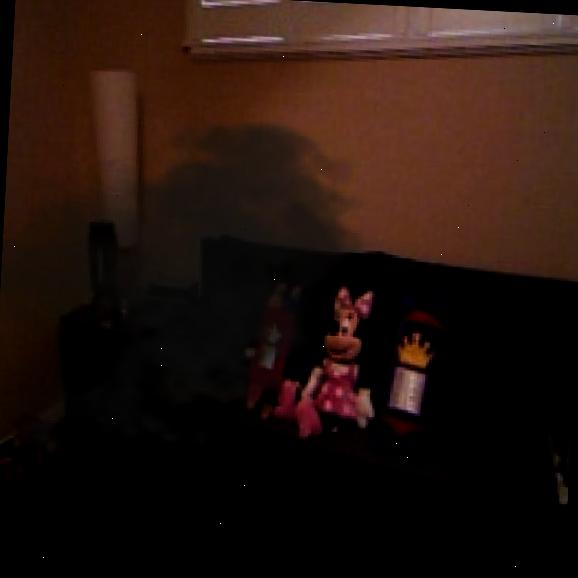smoke: (0, 100, 390, 485)
